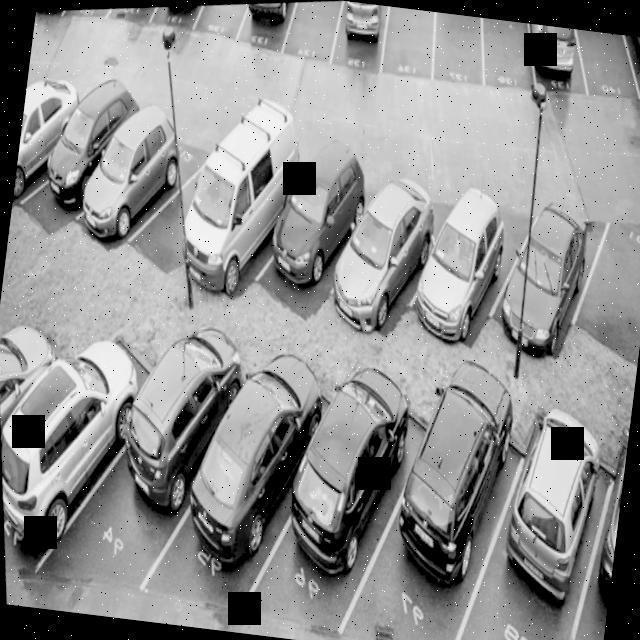car: (66, 304, 270, 598), (342, 360, 548, 640), (246, 349, 447, 632), (151, 330, 352, 612), (0, 317, 171, 591), (469, 396, 631, 640), (10, 60, 158, 259), (308, 144, 459, 335), (170, 110, 318, 300), (64, 98, 198, 271), (0, 295, 89, 542), (474, 178, 608, 342), (398, 178, 532, 336), (252, 150, 376, 314), (556, 432, 628, 640), (10, 72, 99, 234), (516, 23, 592, 119), (320, 0, 392, 85), (240, 0, 306, 59)
free: (132, 120, 256, 296), (556, 189, 640, 356), (368, 5, 450, 101), (465, 17, 541, 109), (562, 28, 640, 112), (273, 0, 354, 73), (426, 12, 492, 88), (198, 0, 257, 43)
